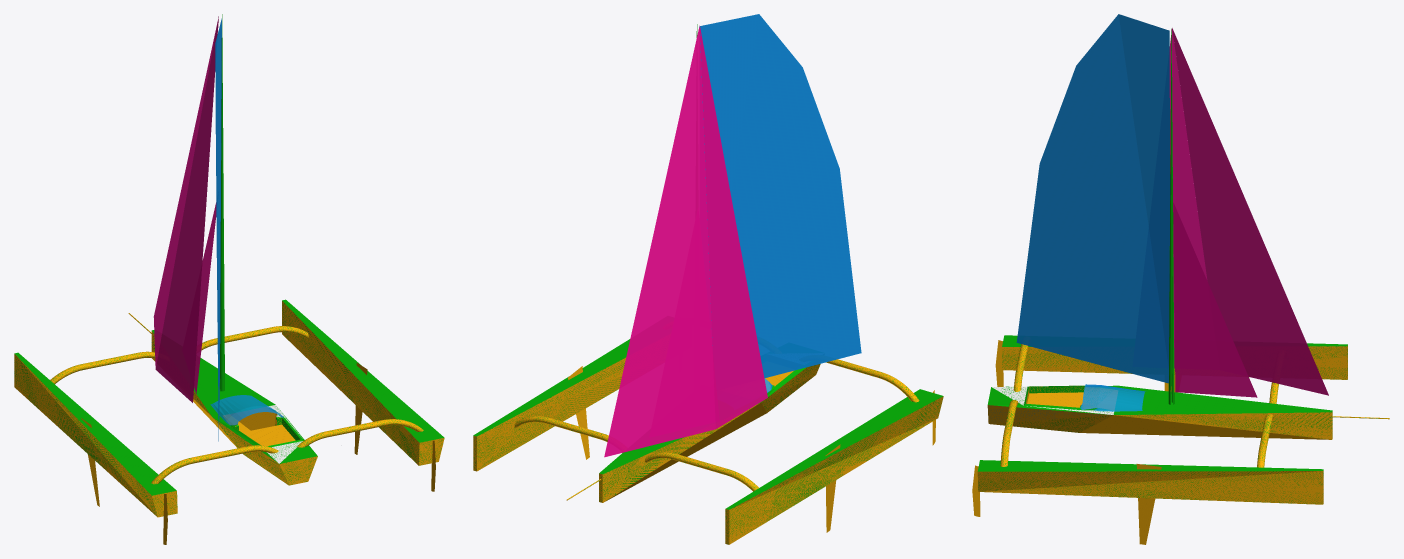
Rendered from genois_tribord_trimaran.dae.
3 renders of one model, left to right at view 1: azimuth 30°, elevation 25°; view 2: azimuth 150°, elevation 25°; view 3: azimuth 270°, elevation 25°, orthographic. The views are drawn at different scales.
Parts seen in each view (by area): view 1: SketchUp (×18); view 2: SketchUp (×14); view 3: SketchUp (×17).
Part boxes in pixels (x1,y1,x2,y2): SketchUp (×18): [14, 14, 444, 517]; SketchUp (×14): [473, 14, 943, 544]; SketchUp (×17): [977, 14, 1347, 544].
Bounding box in the file's own units: 90181 × 111154 × 135024.
Materials: 21 (5 with a texture image).
